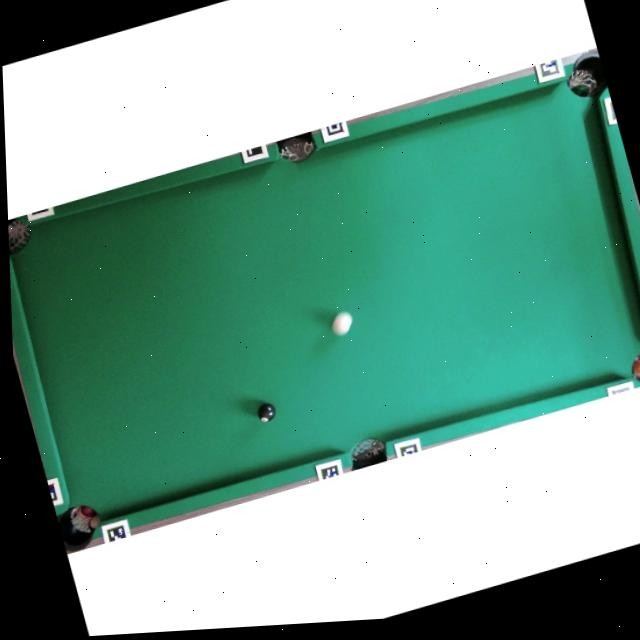cue ball: (327, 308, 357, 338)
other: (255, 401, 278, 425)
